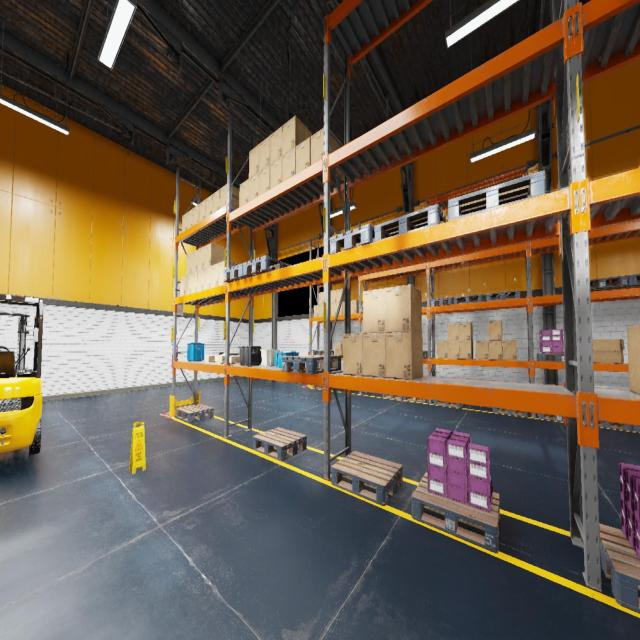box: (385, 284, 422, 332), (386, 332, 423, 379), (310, 128, 342, 178), (282, 116, 312, 155), (363, 332, 386, 378), (363, 288, 385, 333), (627, 324, 640, 394), (343, 333, 363, 376), (592, 339, 624, 363), (295, 137, 310, 174), (204, 243, 226, 268), (218, 260, 239, 286), (270, 125, 282, 163), (220, 184, 239, 208), (282, 147, 295, 181), (259, 135, 270, 171), (270, 156, 282, 188), (249, 144, 259, 178), (259, 165, 270, 195), (502, 340, 517, 360), (248, 172, 258, 201), (239, 178, 249, 207), (488, 340, 502, 360), (488, 321, 502, 340), (459, 341, 473, 359), (459, 322, 472, 340), (476, 341, 488, 359), (448, 323, 459, 341), (212, 189, 220, 213), (448, 341, 459, 358), (437, 341, 448, 358), (211, 263, 218, 288), (205, 194, 212, 217), (203, 266, 210, 289), (191, 250, 198, 273), (197, 269, 204, 291), (198, 246, 204, 271), (199, 199, 205, 221), (191, 271, 197, 293), (351, 300, 361, 313), (193, 204, 199, 225), (187, 208, 193, 228), (185, 274, 191, 294), (186, 252, 191, 276), (334, 342, 343, 355), (180, 276, 185, 296), (182, 213, 187, 232), (218, 356, 231, 363), (337, 289, 344, 302), (229, 356, 240, 363), (313, 305, 319, 317), (331, 290, 336, 303), (219, 350, 231, 355), (337, 302, 342, 314), (331, 303, 336, 315), (319, 292, 323, 305), (206, 355, 214, 361), (319, 304, 323, 316), (215, 355, 218, 361), (343, 302, 344, 314)
forklift: (0, 294, 43, 454)
pallets: (411, 472, 500, 553), (448, 171, 546, 221), (332, 451, 402, 505), (599, 524, 640, 614), (374, 204, 448, 242), (253, 428, 306, 460), (330, 224, 374, 254), (282, 355, 341, 374), (243, 255, 291, 277), (176, 404, 214, 423), (224, 264, 256, 282), (590, 276, 628, 291), (536, 353, 577, 362), (487, 290, 520, 301), (598, 421, 633, 431), (453, 294, 485, 304), (493, 408, 528, 417), (537, 413, 564, 422), (623, 274, 640, 288), (434, 400, 463, 408), (431, 297, 453, 306), (404, 396, 428, 403), (382, 394, 403, 399), (313, 350, 334, 355), (314, 385, 332, 389), (632, 425, 640, 432), (422, 351, 428, 358), (360, 306, 363, 312)
